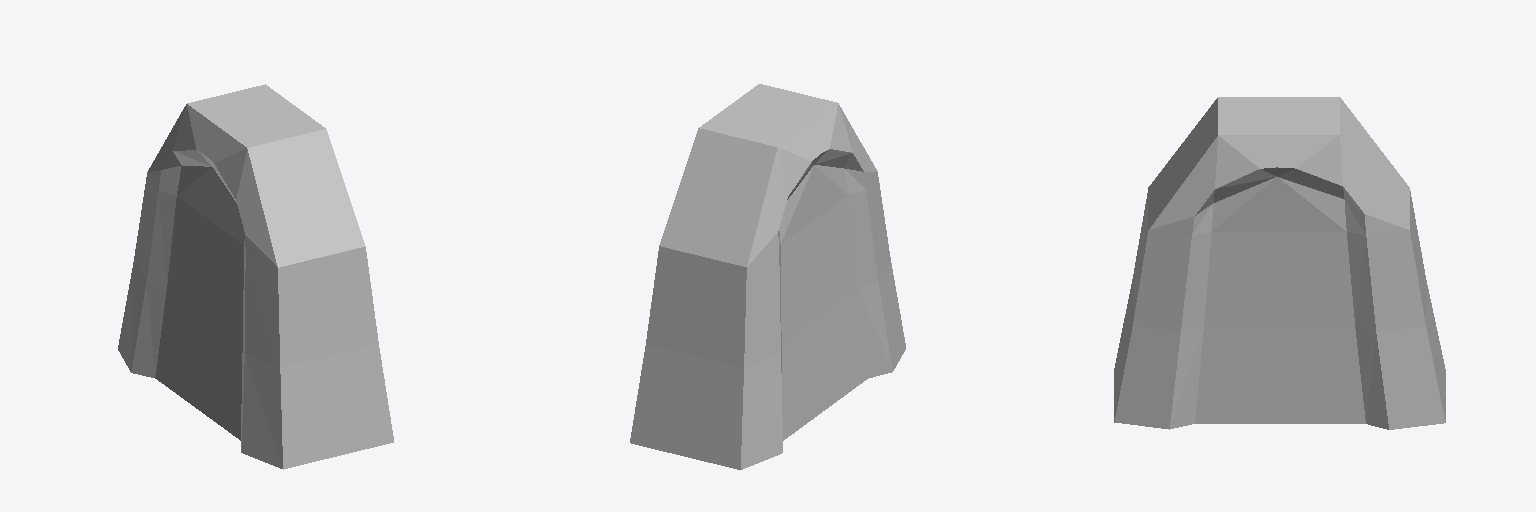
Rendered from hellfire_gravestones_alliance_02.obj.
3 views of the same model, side by side, from view 1: azimuth 30°, elevation 25°; view 2: azimuth 150°, elevation 25°; view 3: azimuth 270°, elevation 25° (orthographic).
Parts seen in each view (by area): view 1: hellfire_gravestones_alliance_02; view 2: hellfire_gravestones_alliance_02; view 3: hellfire_gravestones_alliance_02.
Boxes of the visible parts, <box> form: hellfire_gravestones_alliance_02: <box>118,84,393,469</box>; hellfire_gravestones_alliance_02: <box>630,84,905,469</box>; hellfire_gravestones_alliance_02: <box>1114,97,1445,429</box>.
Bounding box in the file's own units: 0.8302 × 1.59 × 1.7.